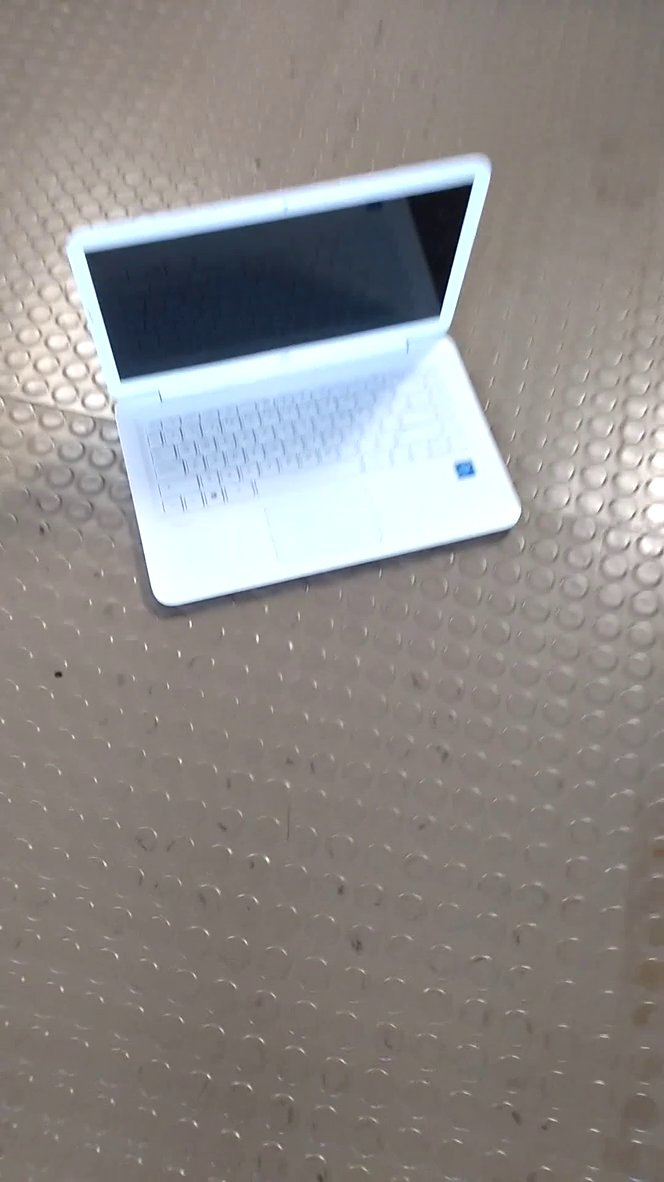laptop: (59, 139, 535, 619)
